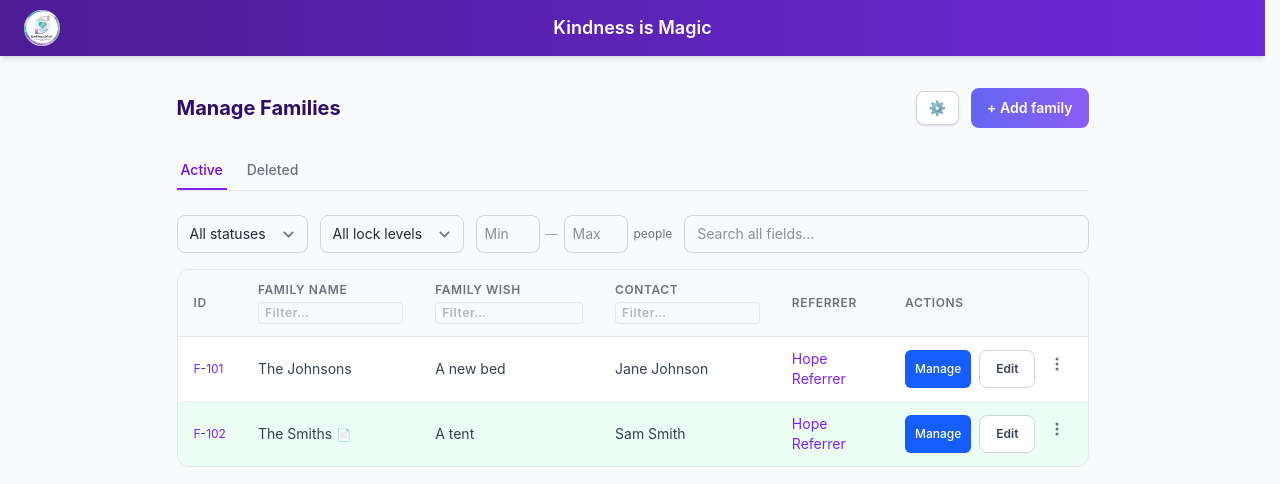
Test case: AdminFamilies › switches to Deleted tab and fetches deleted families
Expected: the text "The Johnsons" is shown, left=242, top=336, right=419, bottom=402
Click the tab "Deleted": (272, 171) left=243, top=152, right=302, bottom=190
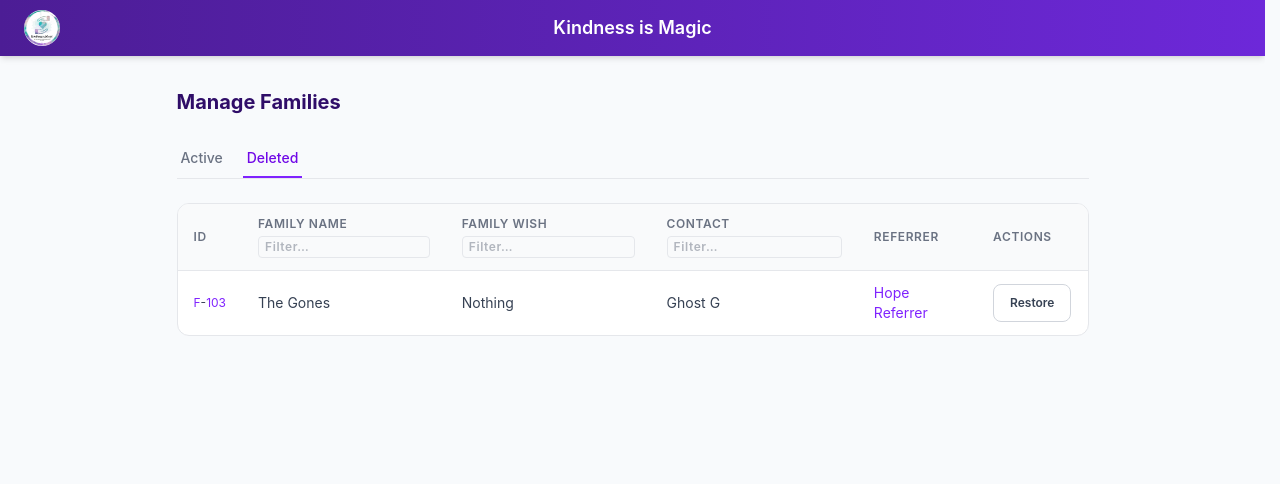
Expected: the text "The Gones" is shown, left=242, top=270, right=446, bottom=335
Expected: the button "Restore" is shown, left=993, top=284, right=1072, bottom=322
Expected: the button "+ Add family" is gone
